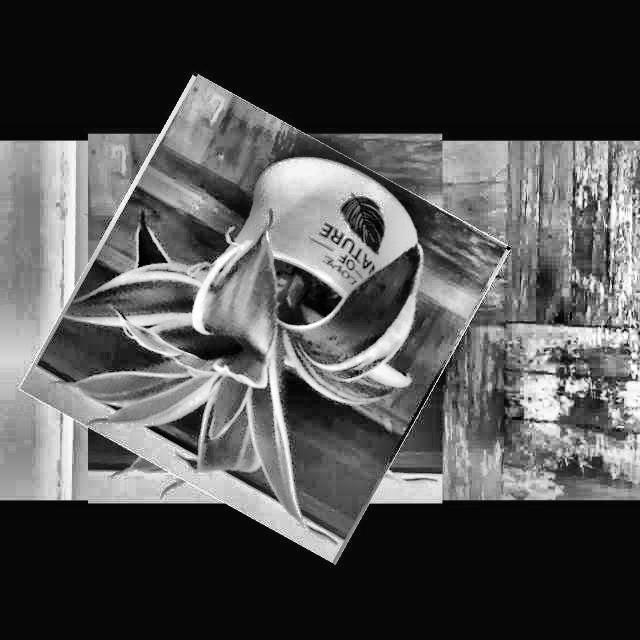plants: (51, 104, 478, 532)
